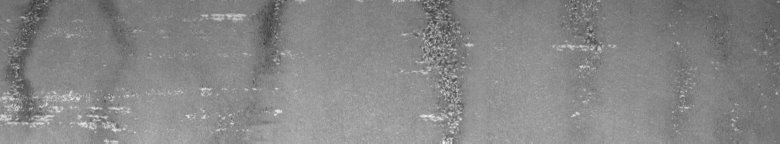hc: (401, 4, 474, 133)
